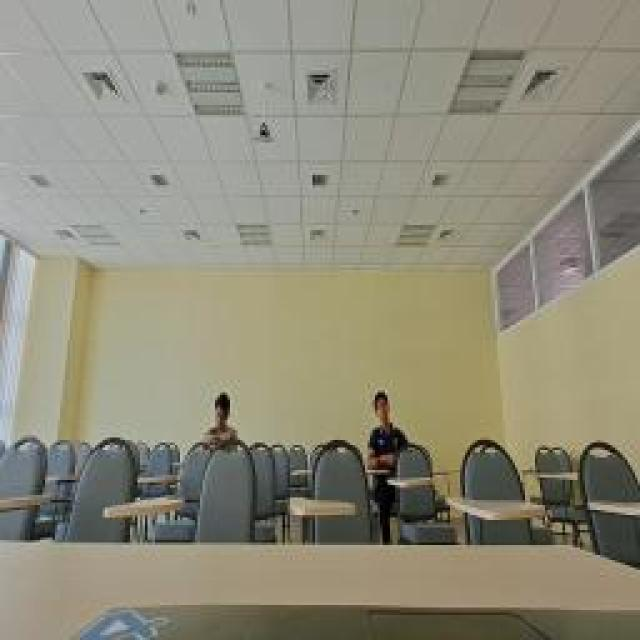phone: (202, 392, 238, 450)
study: (365, 393, 407, 475)
